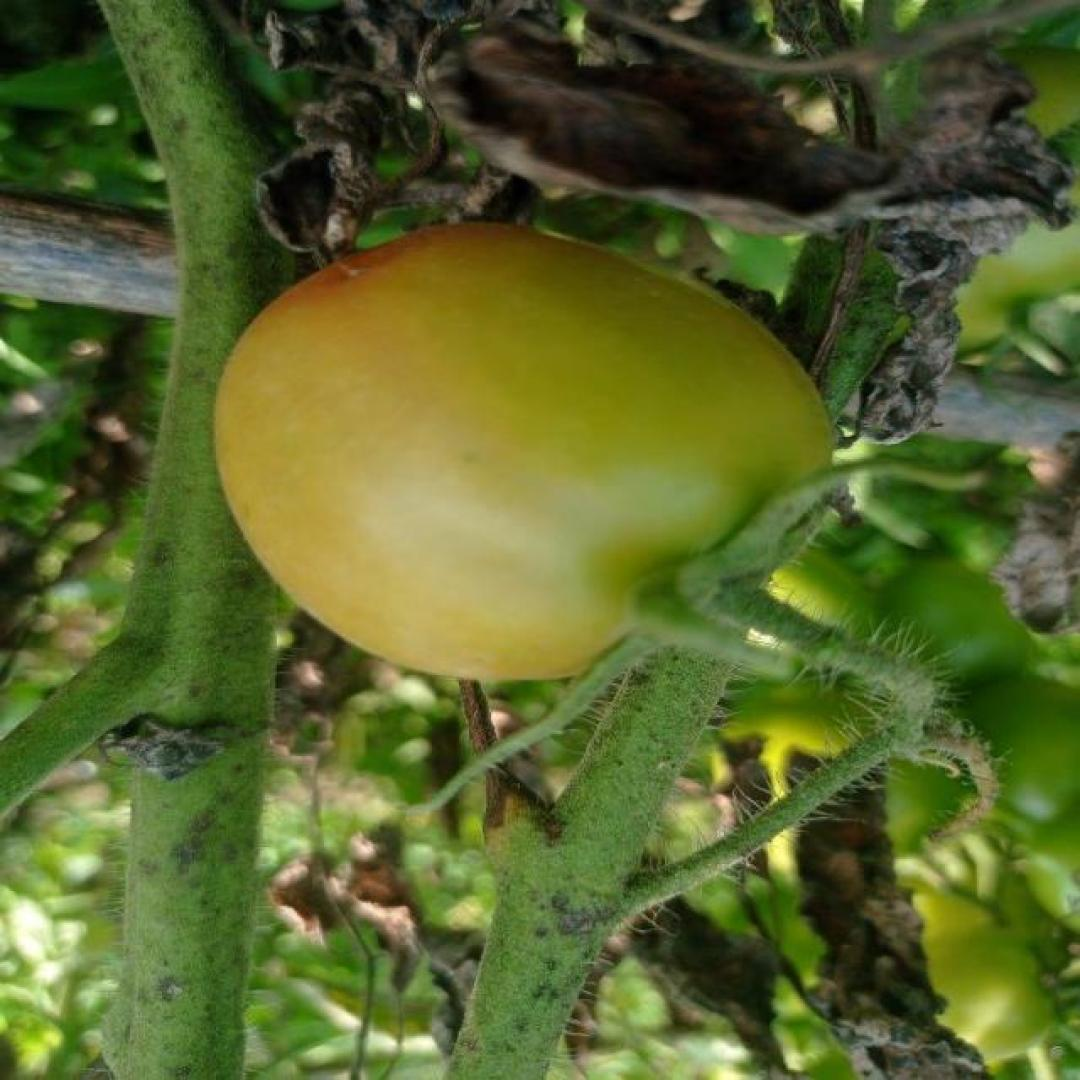setengah_matang: (209, 221, 842, 687)
